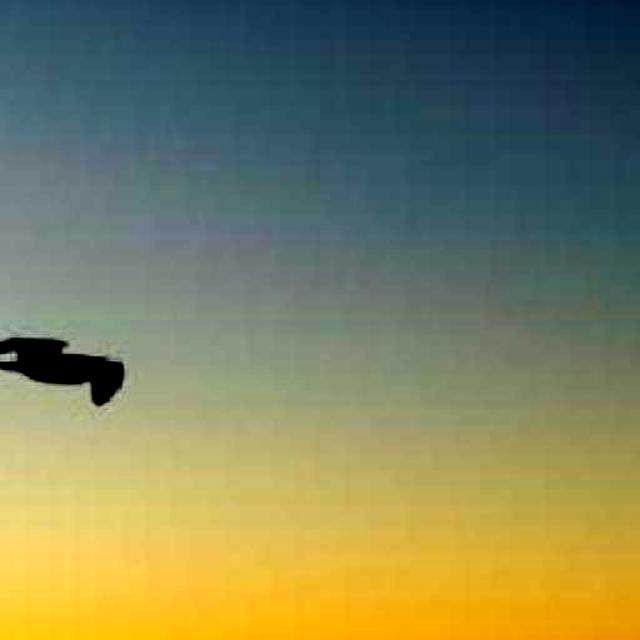airplane: (0, 336, 125, 408)
